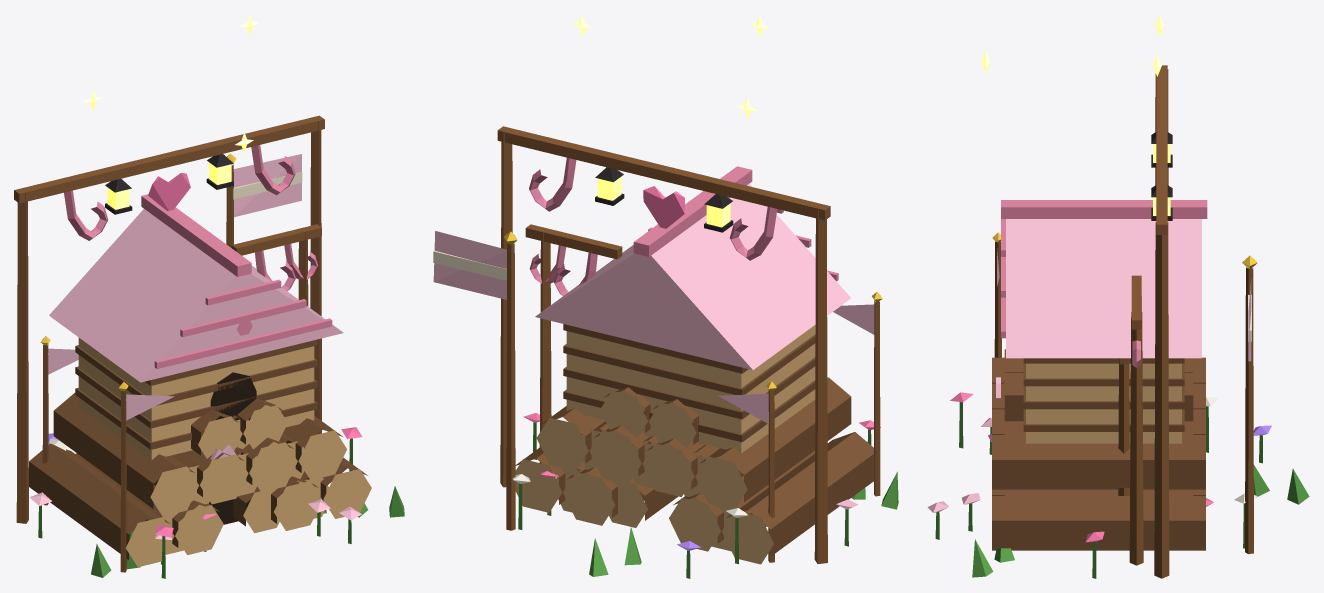
The model's file is opossum-woodpile-hollow.glb.
3 views of the same model, side by side, from view 1: azimuth 30°, elevation 25°; view 2: azimuth 150°, elevation 25°; view 3: azimuth 270°, elevation 25° (orthographic). The views are drawn at different scales.
Parts seen in each view (by area): view 1: lv3, lv2; view 2: lv3, lv2; view 3: lv3, lv2, lv1.
Part boxes in pixels (left/top/right/bottom): lv3: left=14, top=14, right=404, bottom=578; lv2: left=40, top=224, right=367, bottom=569; lv3: left=433, top=14, right=898, bottom=578; lv2: left=525, top=224, right=865, bottom=565; lv3: left=927, top=14, right=1309, bottom=578; lv2: left=962, top=275, right=1269, bottom=565; lv1: left=988, top=358, right=1129, bottom=495.
Size of the model in its own units: 1.63 by 2.14 by 1.52.
